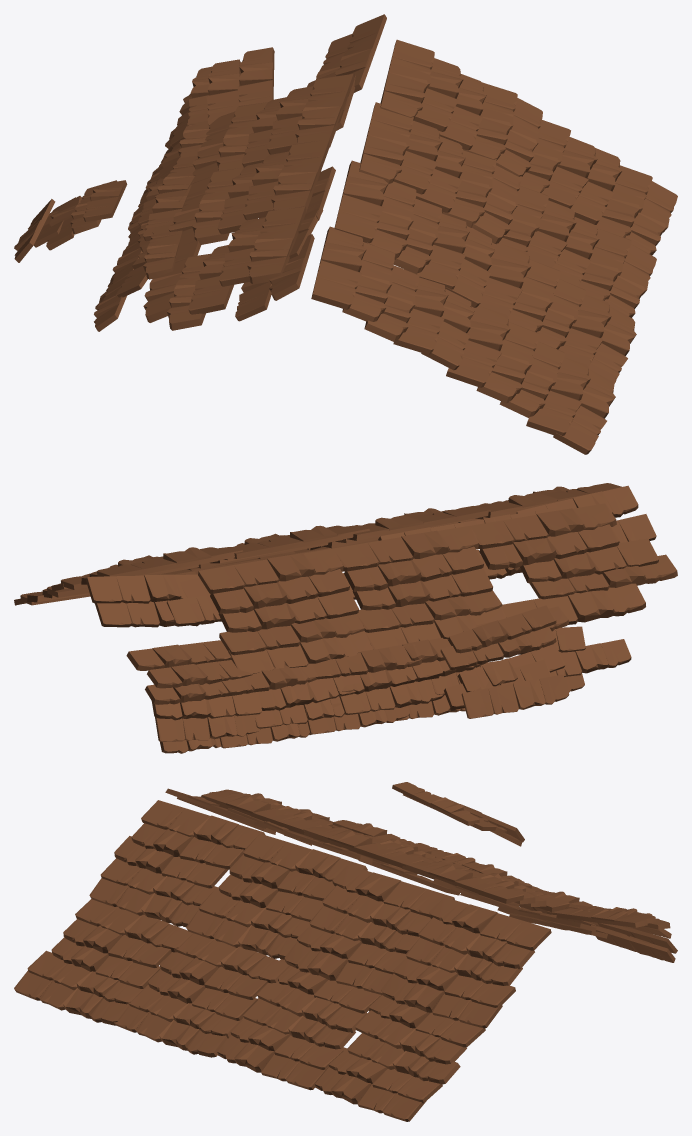
The model's file is HenRoof.fbx.
The picture shows the model from 3 angles, top to bottom: view 1: azimuth 30°, elevation 25°; view 2: azimuth 150°, elevation 25°; view 3: azimuth 270°, elevation 25°; orthographic projection. The views are drawn at different scales.
Visible parts, largest first — view 1: HenRoof_Merged; view 2: HenRoof_Merged; view 3: HenRoof_Merged.
Boxes of the visible parts, <box> form: HenRoof_Merged: <box>14,14,677,454</box>; HenRoof_Merged: <box>14,483,677,753</box>; HenRoof_Merged: <box>14,782,677,1121</box>.
Size of the model in its own units: 1587 by 371 by 1757.
